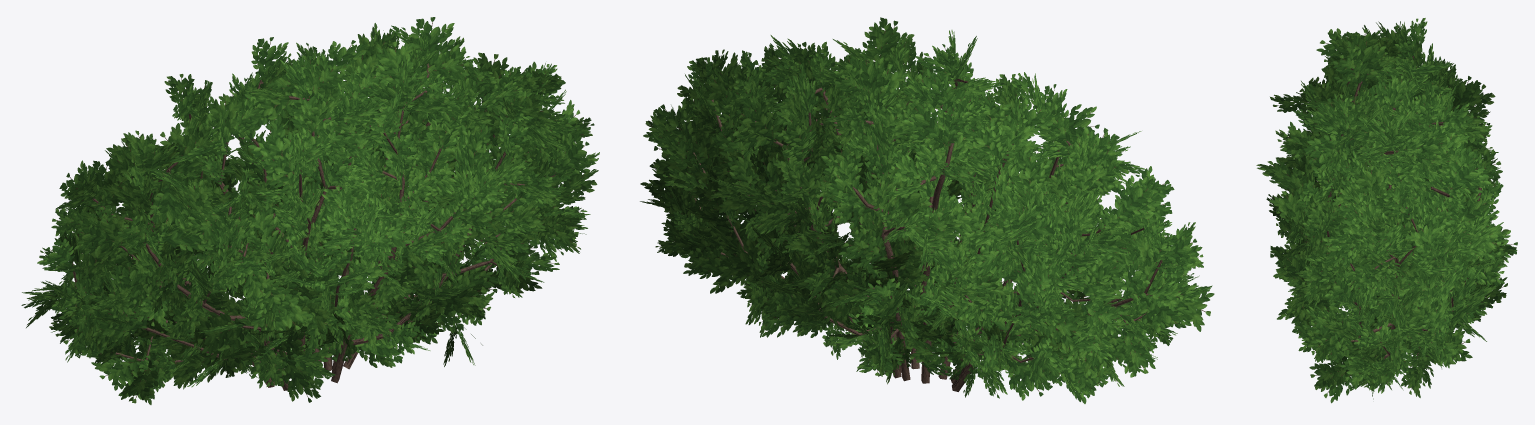
Rendered from bush_hedge_01.glb.
3 views of the same model, side by side, from view 1: azimuth 30°, elevation 25°; view 2: azimuth 150°, elevation 25°; view 3: azimuth 270°, elevation 25° (orthographic). The views are drawn at different scales.
Parts seen in each view (by area): view 1: bush_hedge_01; view 2: bush_hedge_01; view 3: bush_hedge_01.
Boxes of the visible parts, box(x1,y1,x2,y2) form: bush_hedge_01: box(21, 17, 599, 404); bush_hedge_01: box(640, 17, 1214, 403); bush_hedge_01: box(1256, 18, 1517, 403).
Size of the model in its own units: 4.07 by 2.35 by 1.9.
2 materials, 2 textured.
